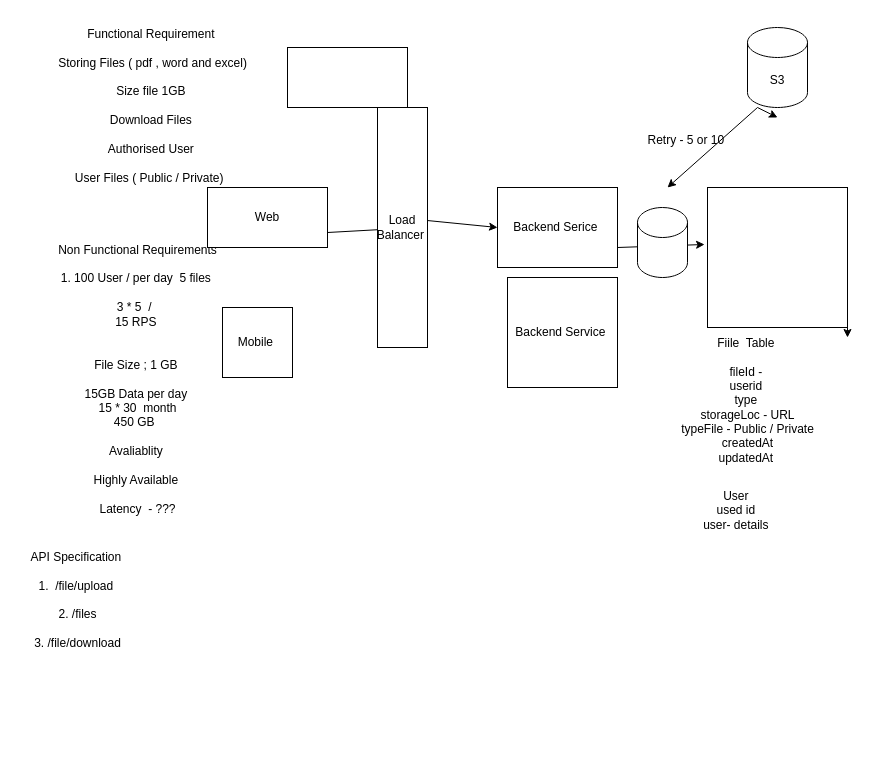
This 873x777 diagram has some shape labels left out. Each missing label, with the centre of its shape:
Cache: the point at 662,242
CDN: the point at 347,77
Database: the point at 777,257
